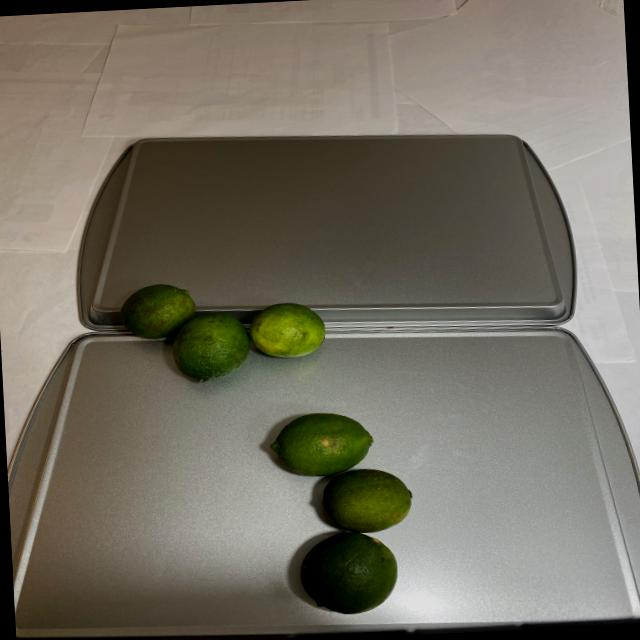lemon: (258, 394, 432, 620), (110, 274, 338, 392)
